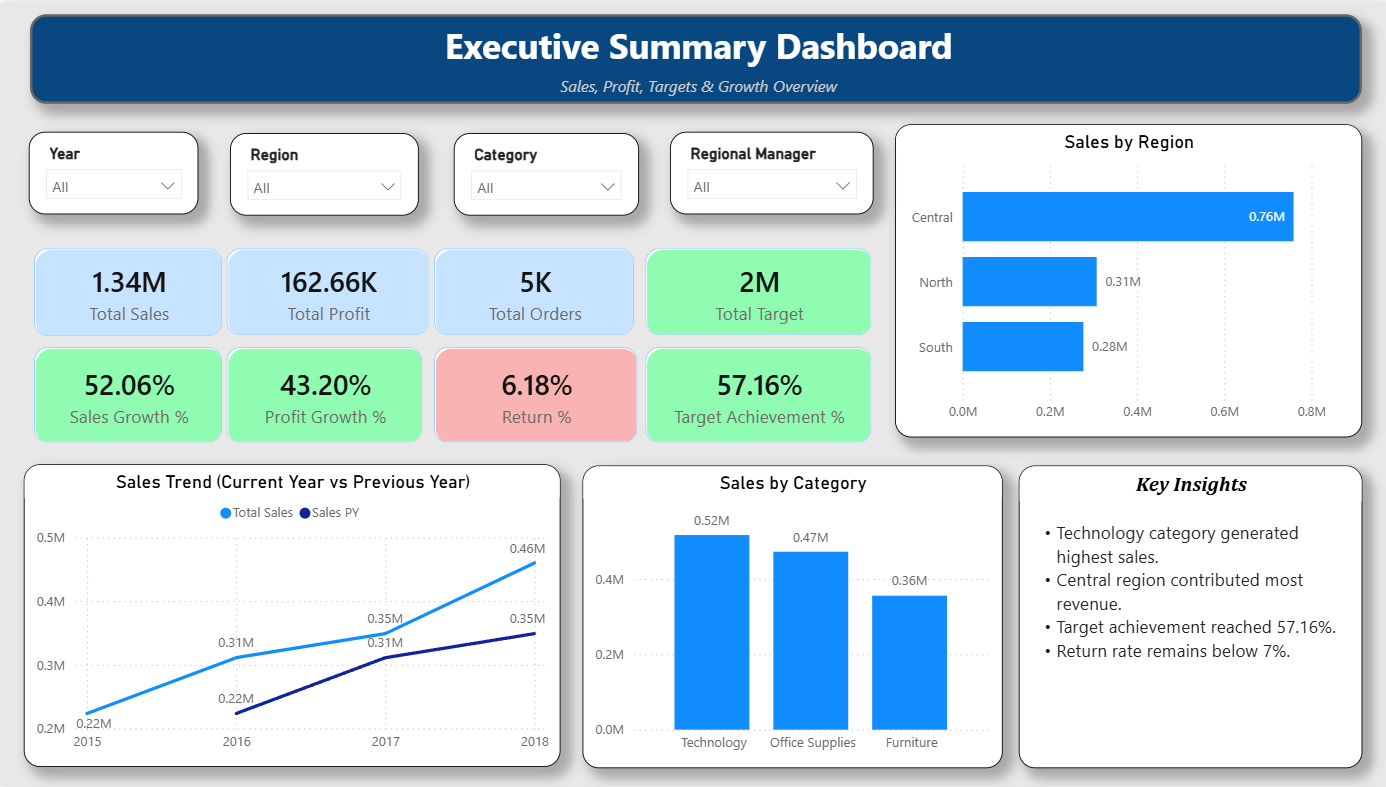

The page's visual inventory and layout, read from the dashboard file:
{"tool":"powerbi","page":{"name":"Executive Summary","canvas":[1280,720],"ordinal":0},"visuals":[{"type":"slicer","fields":{"Values":["DateTable.Year"]},"box":[26.5,118.1,156.2,76.2],"z":0},{"type":"slicer","fields":{"Values":["People.Region"]},"box":[211.5,119.3,173.8,76.2],"z":1000},{"type":"slicer","fields":{"Values":["Orders.Category"]},"box":[417.7,119.3,170,76.2],"z":2000},{"type":"cardVisual","fields":{"Data":["MeasureTable.Total Profit"]},"box":[203.6,221,196.6,90.5],"z":3000},{"type":"cardVisual","fields":{"Data":["MeasureTable.Total Orders"]},"box":[394.3,221,194.2,90.5],"z":4000},{"type":"cardVisual","fields":{"Data":["MeasureTable.Total Target"]},"box":[588.5,221,218.4,90.5],"z":5000},{"type":"cardVisual","fields":{"Data":["MeasureTable.Target Achievement %"]},"box":[588.5,311.5,218.4,98.9],"z":6000},{"type":"cardVisual","fields":{"Data":["MeasureTable.Sales Growth %"]},"box":[26.3,311.5,183.4,98.9],"z":7000},{"type":"cardVisual","fields":{"Data":["MeasureTable.Profit Growth %"]},"box":[203.6,311.5,190.6,98.9],"z":8000},{"type":"cardVisual","fields":{"Data":["MeasureTable.Return %"]},"box":[394.3,311.5,197.9,98.9],"z":9000},{"type":"lineChart","title":"Sales Trend (Current Year vs Previous Year)","fields":{"Category":["DateTable.Year"],"Y":["MeasureTable.Total Sales","MeasureTable.Sales PY"]},"box":[21.5,423.9,493.4,278.7],"z":10000},{"type":"clusteredBarChart","title":"Sales by Region","fields":{"Category":["Orders.Region"],"Y":["MeasureTable.Total Sales"]},"box":[822.6,111.5,429.5,288.3],"z":11000},{"type":"clusteredColumnChart","title":"Sales by Category","fields":{"Category":["Orders.Category"],"Y":["MeasureTable.Total Sales"]},"box":[535.2,425.6,386.2,278.8],"z":12000},{"type":"textbox","title":"Executive Summary Dashboard","box":[27.7,10.6,1225,82.5],"z":13000},{"type":"textbox","title":"Key Insights","box":[936.5,425.6,316.2,278.8],"z":14000},{"type":"cardVisual","fields":{"Data":["MeasureTable.Total Sales"]},"box":[26.5,220.6,183.8,91.2],"z":15000},{"type":"slicer","fields":{"Values":["People.People"]},"box":[616.5,118.1,187.5,76.2],"z":16000}]}

Visuals, with their boxes in screenshot pixels (x1, y1, x2, y2), scaled from the page's 1280x720 canvas onto the 1386x787 screenshot:
slicer - DateTable.Year: bbox(29, 129, 198, 212)
slicer - People.Region: bbox(229, 130, 417, 214)
slicer - Orders.Category: bbox(452, 130, 636, 214)
cardVisual - MeasureTable.Total Profit: bbox(220, 242, 433, 340)
cardVisual - MeasureTable.Total Orders: bbox(427, 242, 637, 340)
cardVisual - MeasureTable.Total Target: bbox(637, 242, 874, 340)
cardVisual - MeasureTable.Target Achievement %: bbox(637, 340, 874, 449)
cardVisual - MeasureTable.Sales Growth %: bbox(28, 340, 227, 449)
cardVisual - MeasureTable.Profit Growth %: bbox(220, 340, 427, 449)
cardVisual - MeasureTable.Return %: bbox(427, 340, 641, 449)
"Sales Trend (Current Year vs Previous Year)" lineChart: bbox(23, 463, 558, 768)
"Sales by Region" clusteredBarChart: bbox(891, 122, 1356, 437)
"Sales by Category" clusteredColumnChart: bbox(580, 465, 998, 770)
"Executive Summary Dashboard" textbox: bbox(30, 12, 1356, 102)
"Key Insights" textbox: bbox(1014, 465, 1356, 770)
cardVisual - MeasureTable.Total Sales: bbox(29, 241, 228, 341)
slicer - People.People: bbox(668, 129, 871, 212)
